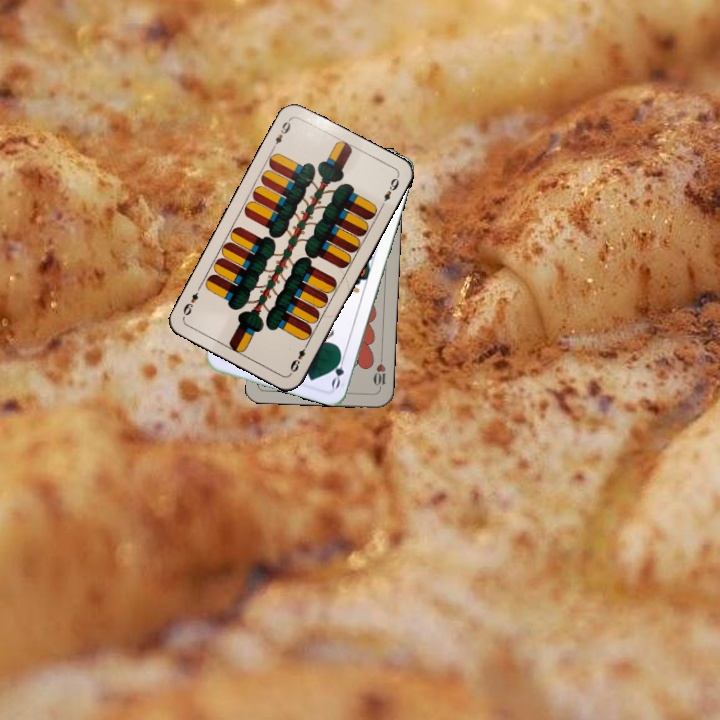E9: (285, 339, 311, 376), (268, 115, 293, 152)
GO: (327, 349, 348, 391)
H10: (370, 352, 388, 392)
